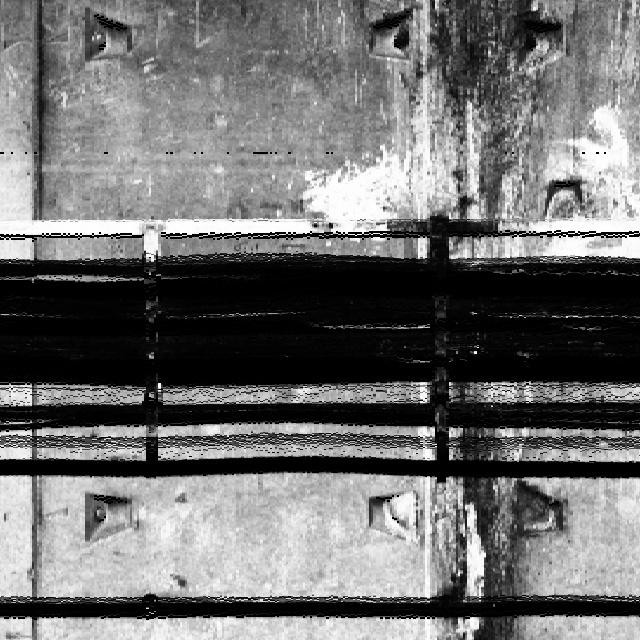leakage: (403, 0, 547, 256), (405, 387, 534, 639)
